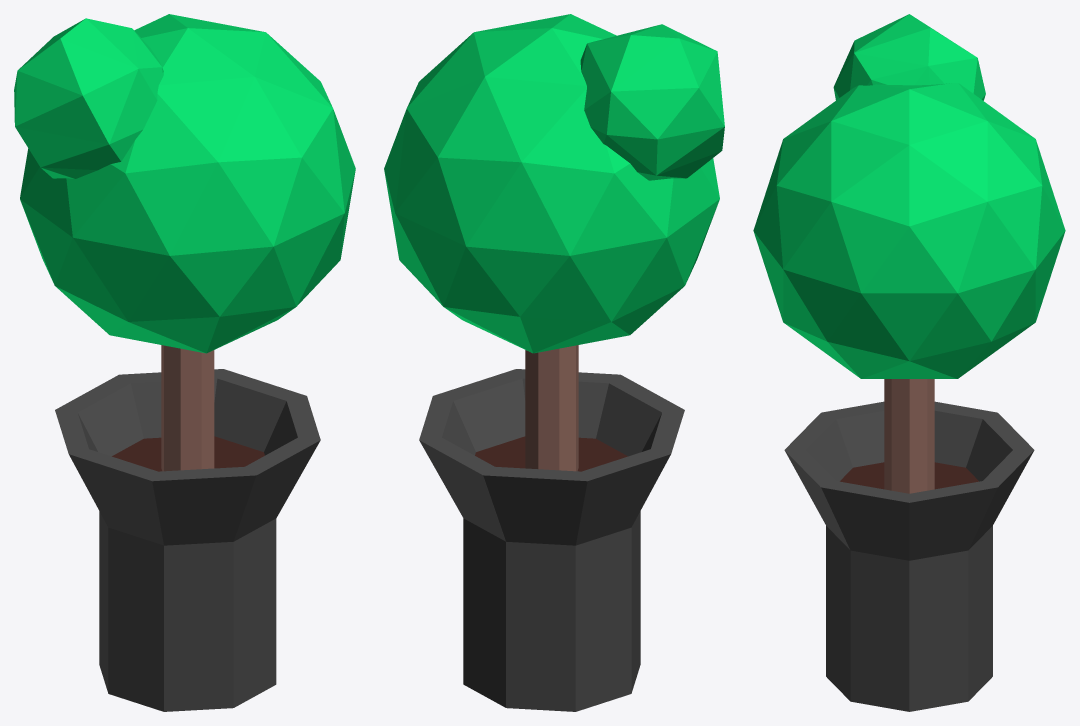
Rendered from Plant_3.fbx.
The picture shows the model from 3 angles, left to right: view 1: azimuth 30°, elevation 25°; view 2: azimuth 150°, elevation 25°; view 3: azimuth 270°, elevation 25°; orthographic projection. The views are drawn at different scales.
Visible parts, largest first — view 1: Plant_3; view 2: Plant_3; view 3: Plant_3.
Part boxes in pixels (<box>): Plant_3: <box>14,14,355,711</box>; Plant_3: <box>384,14,724,711</box>; Plant_3: <box>753,14,1065,711</box>.
Bounding box in the file's own units: 79.13 × 161 × 74.88.
